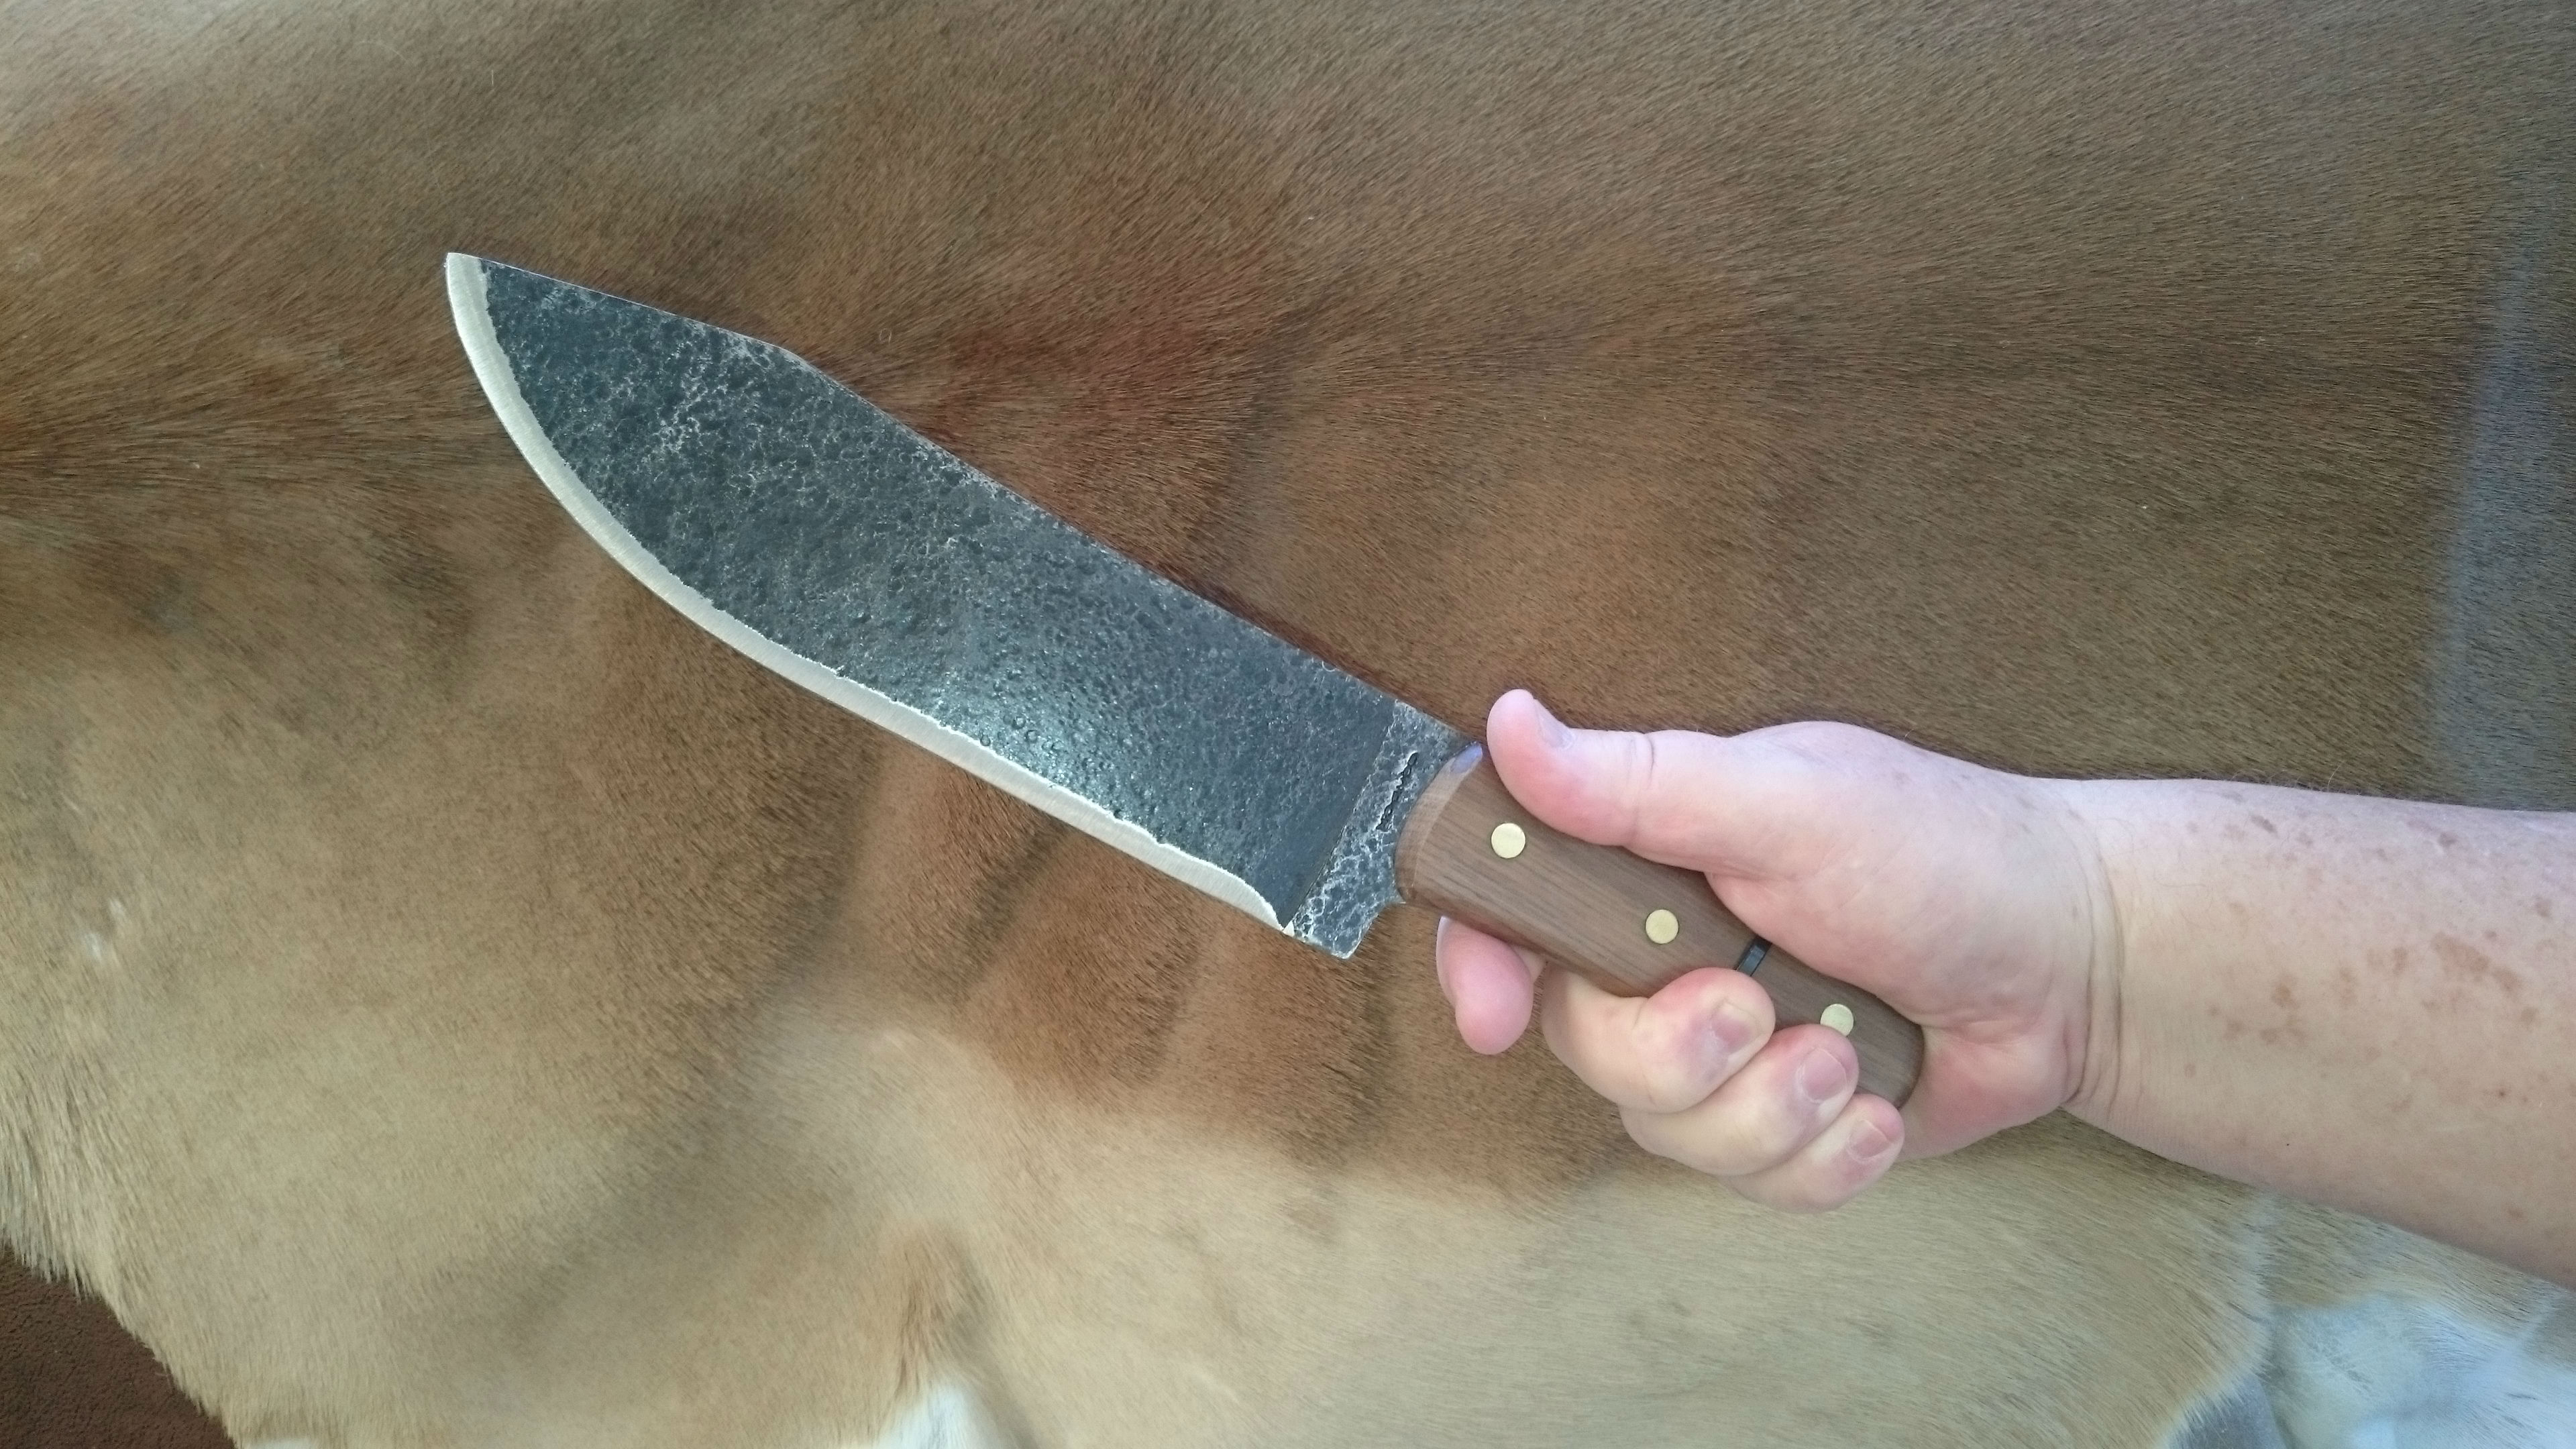knife: (412, 221, 1962, 1221)
